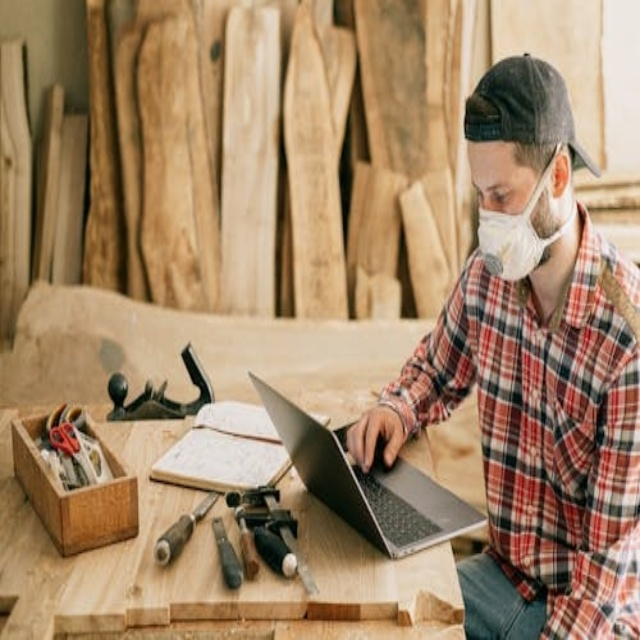Mascara: (476, 150, 572, 282)
Sin_gafas: (466, 160, 526, 215)
Sin_guantes: (344, 401, 408, 474)
